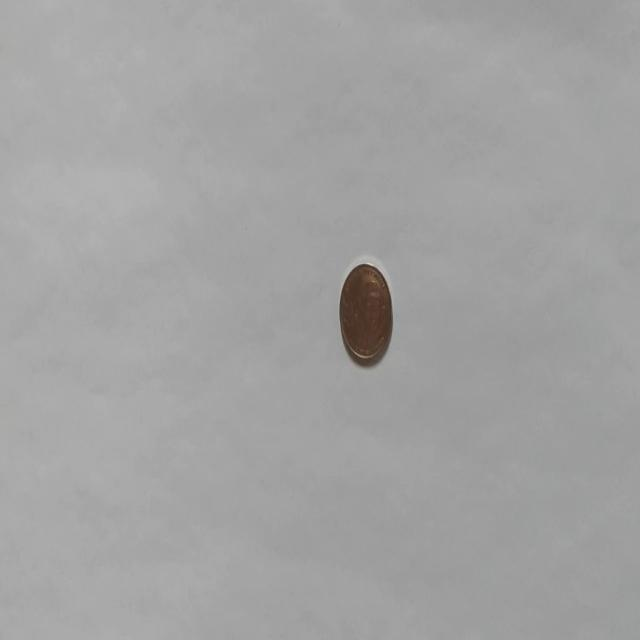seribu rupiah koin: (338, 256, 393, 366)
